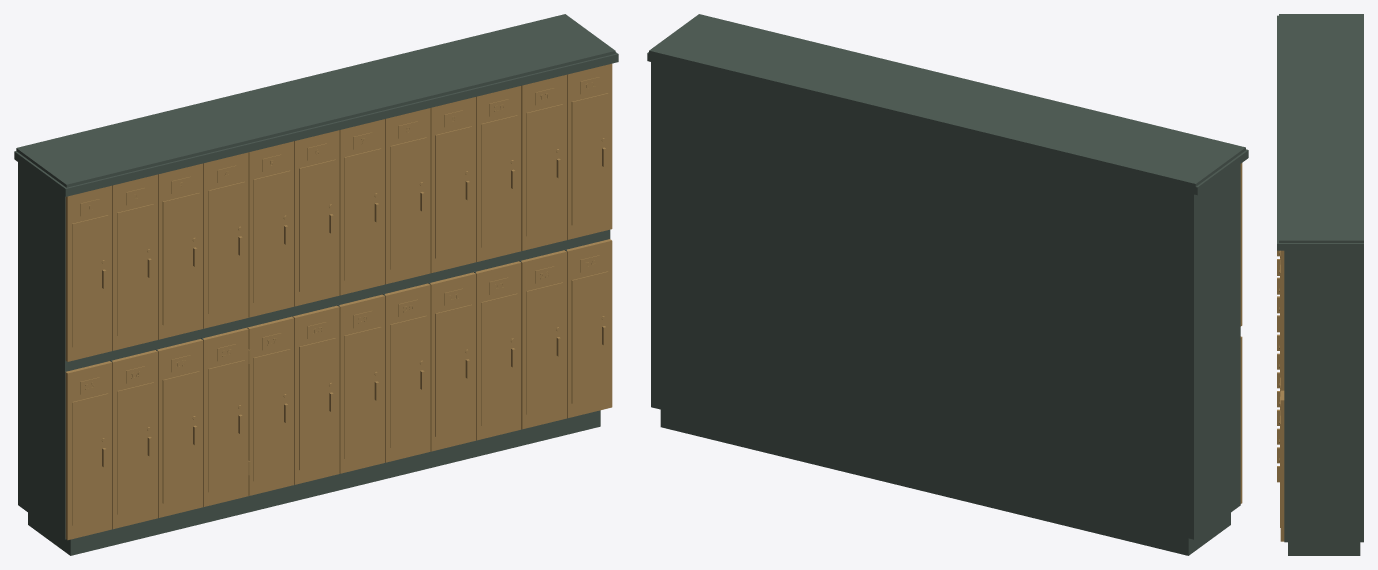
Rendered from lockers4.glb.
3 renders of one model, left to right at view 1: azimuth 30°, elevation 25°; view 2: azimuth 150°, elevation 25°; view 3: azimuth 270°, elevation 25°, orthographic. The views are drawn at different scales.
Parts seen in each view (by area): view 1: lockers4, IA_locker_17; view 2: lockers4; view 3: lockers4.
Part boxes in pixels (box(x1,y1,x2,y2)): lockers4: box(14, 14, 618, 555); IA_locker_17: box(247, 316, 294, 495); lockers4: box(647, 14, 1248, 555); lockers4: box(1277, 14, 1363, 555).
Size of the model in its own units: 2.92 by 1.9 by 0.47.
